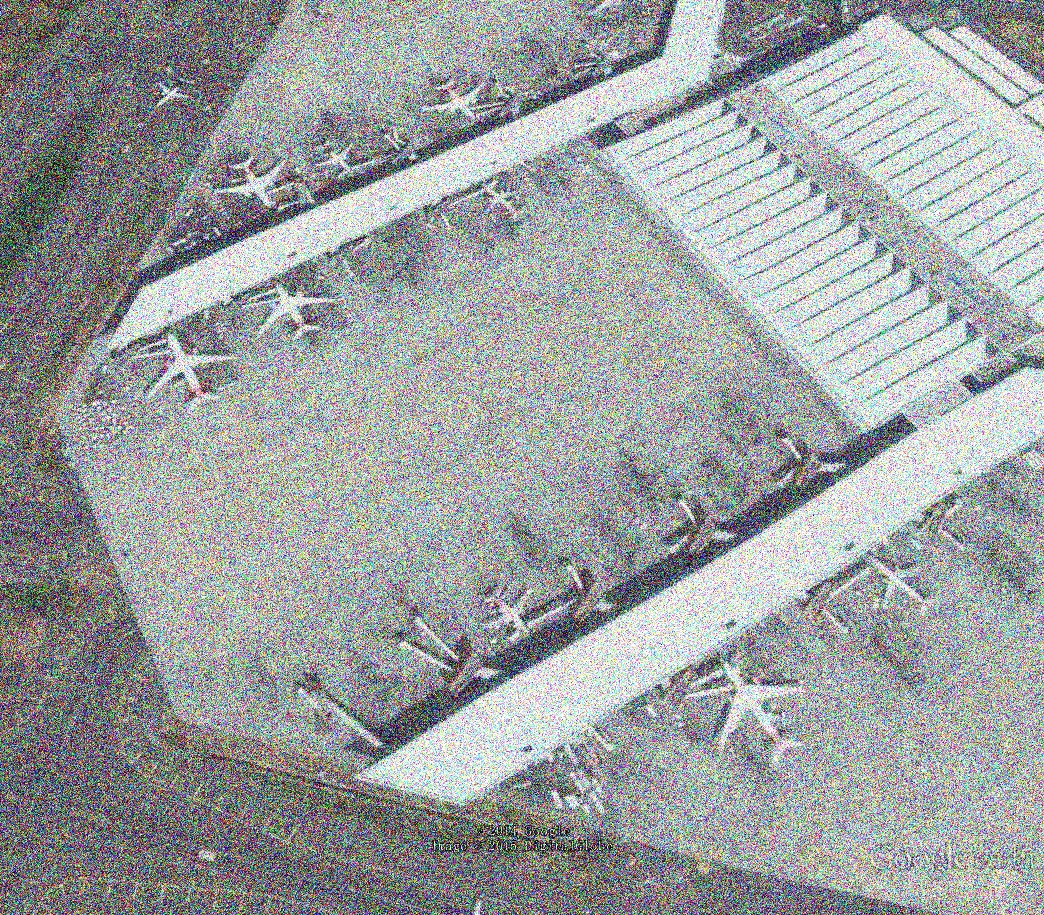aircraft: (711, 654, 816, 769), (137, 326, 240, 418), (257, 277, 342, 346), (863, 544, 941, 618), (211, 151, 291, 211), (417, 72, 489, 125), (476, 581, 538, 641), (308, 137, 357, 179), (478, 181, 527, 223), (151, 71, 198, 112)
